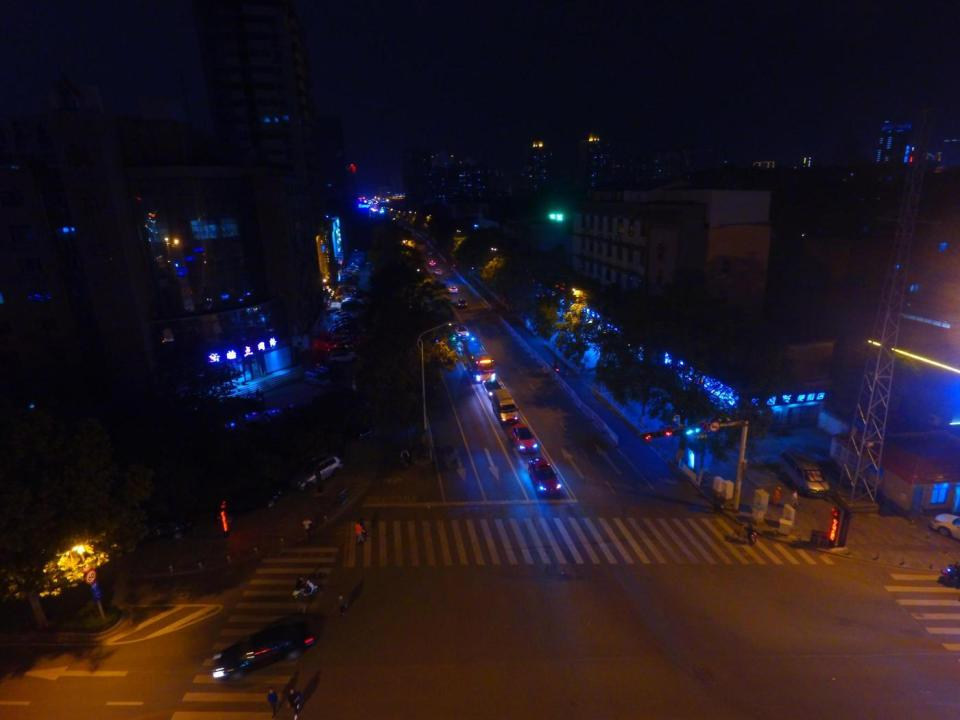bus: (461, 338, 496, 384)
car: (214, 619, 315, 683), (226, 475, 280, 518), (291, 454, 341, 494), (528, 457, 561, 498), (138, 515, 189, 541), (929, 511, 960, 544), (263, 409, 291, 436), (512, 424, 538, 452), (287, 404, 312, 432), (482, 380, 507, 403), (346, 417, 371, 440), (243, 412, 264, 439), (317, 359, 342, 379), (454, 325, 470, 341), (447, 284, 457, 294), (458, 300, 468, 309), (428, 259, 436, 266), (436, 270, 444, 276)
van: (780, 449, 830, 499), (490, 389, 518, 424), (304, 370, 330, 388)
